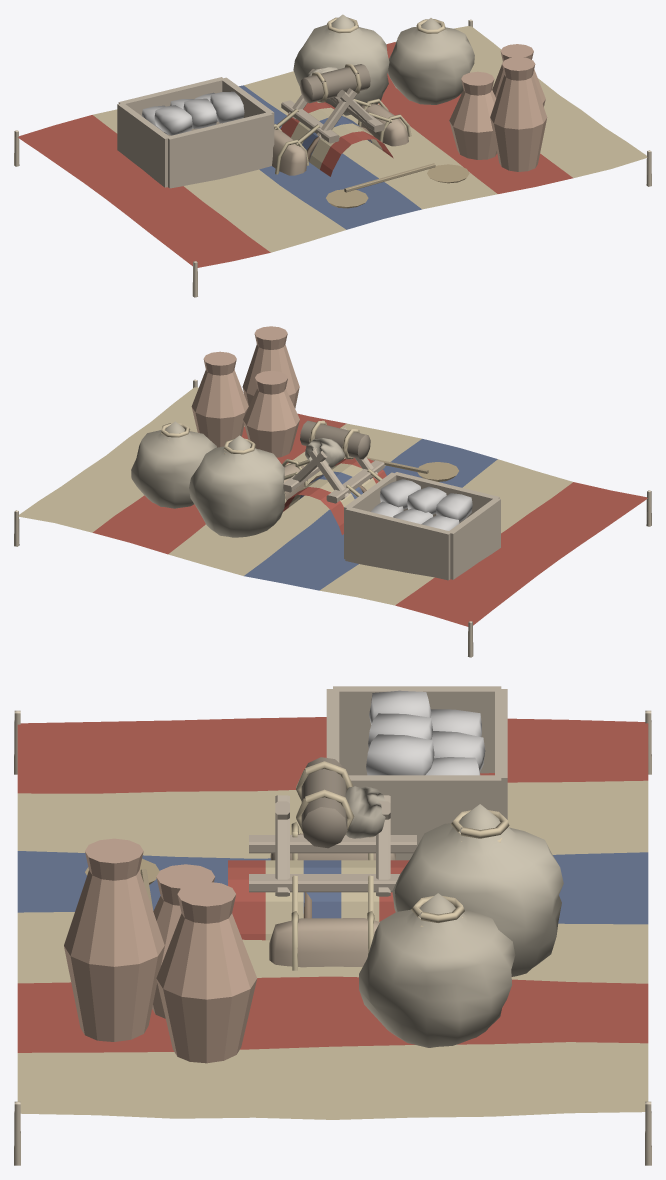
The model's file is caravan.glb.
3 views of the same model, one above another, from view 1: azimuth 30°, elevation 25°; view 2: azimuth 150°, elevation 25°; view 3: azimuth 270°, elevation 25° (orthographic). The views are drawn at different scales.
Visible parts, largest first — view 1: caravan_goods, caravan_pack; view 2: caravan_goods, caravan_pack; view 3: caravan_goods, caravan_pack.
Part boxes in pixels (x1,y1,x2,y2): caravan_goods: [14, 14, 651, 297]; caravan_pack: [272, 64, 411, 176]; caravan_goods: [14, 326, 651, 657]; caravan_pack: [282, 420, 386, 534]; caravan_goods: [14, 686, 651, 1165]; caravan_pack: [228, 757, 416, 970].
Size of the model in its own units: 2.22 by 0.6138 by 1.52.
